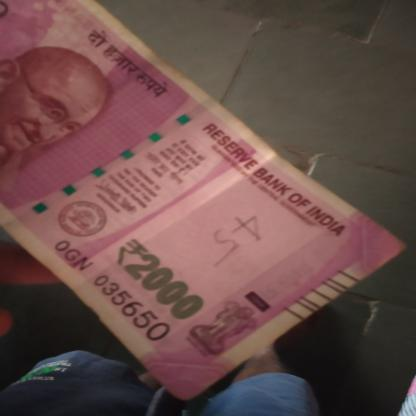New2000Front: (0, 0, 405, 406)
